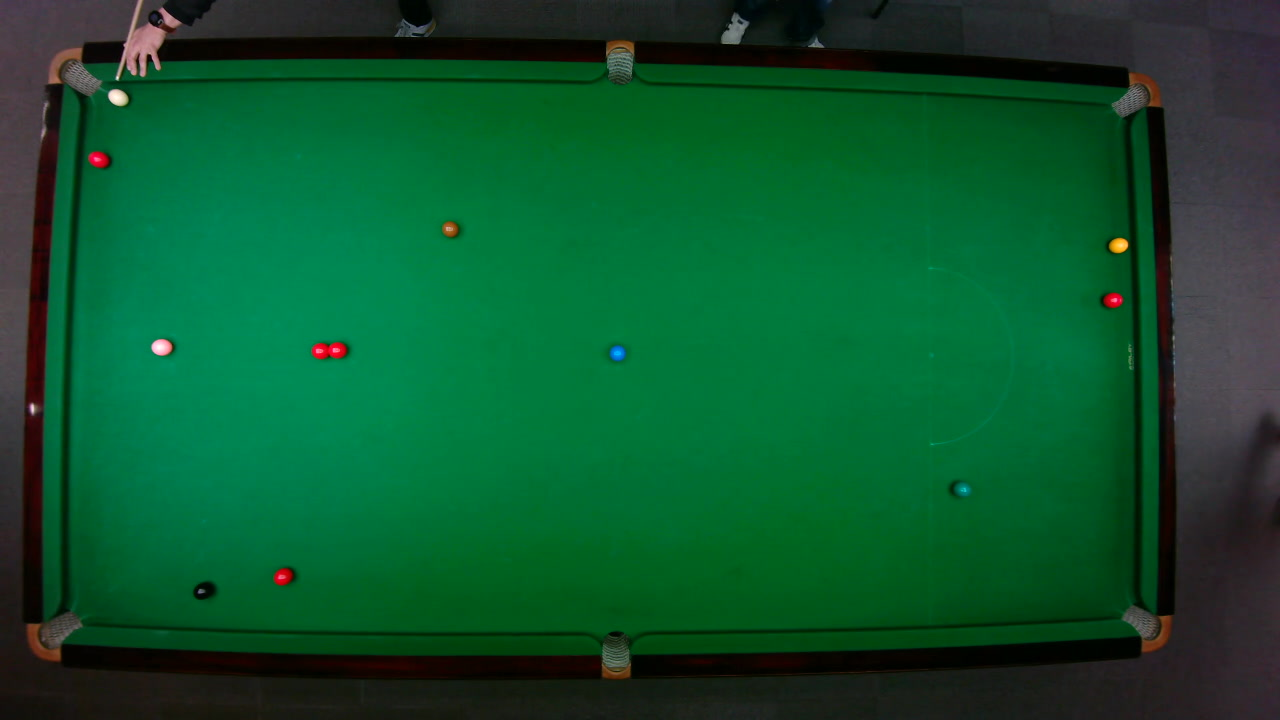bag: (24, 609, 83, 661), (45, 46, 102, 96), (1119, 603, 1172, 652), (1108, 71, 1161, 118), (600, 629, 629, 680), (605, 38, 633, 85)
black: (192, 581, 213, 600)
blue: (607, 343, 626, 361)
brown: (440, 220, 458, 237)
cue: (112, 0, 143, 81)
green: (950, 480, 972, 497)
pink: (149, 336, 173, 356)
red: (86, 149, 110, 168), (324, 340, 347, 359), (271, 566, 294, 585), (1101, 291, 1123, 308), (310, 341, 330, 359)
white: (106, 87, 129, 106)
yellow: (1107, 236, 1129, 253)
zone: (927, 266, 1013, 445)
